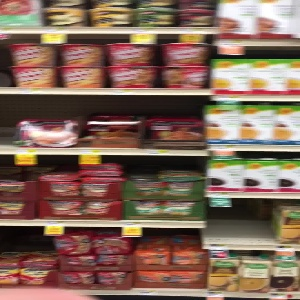void: (209, 196, 277, 247)
